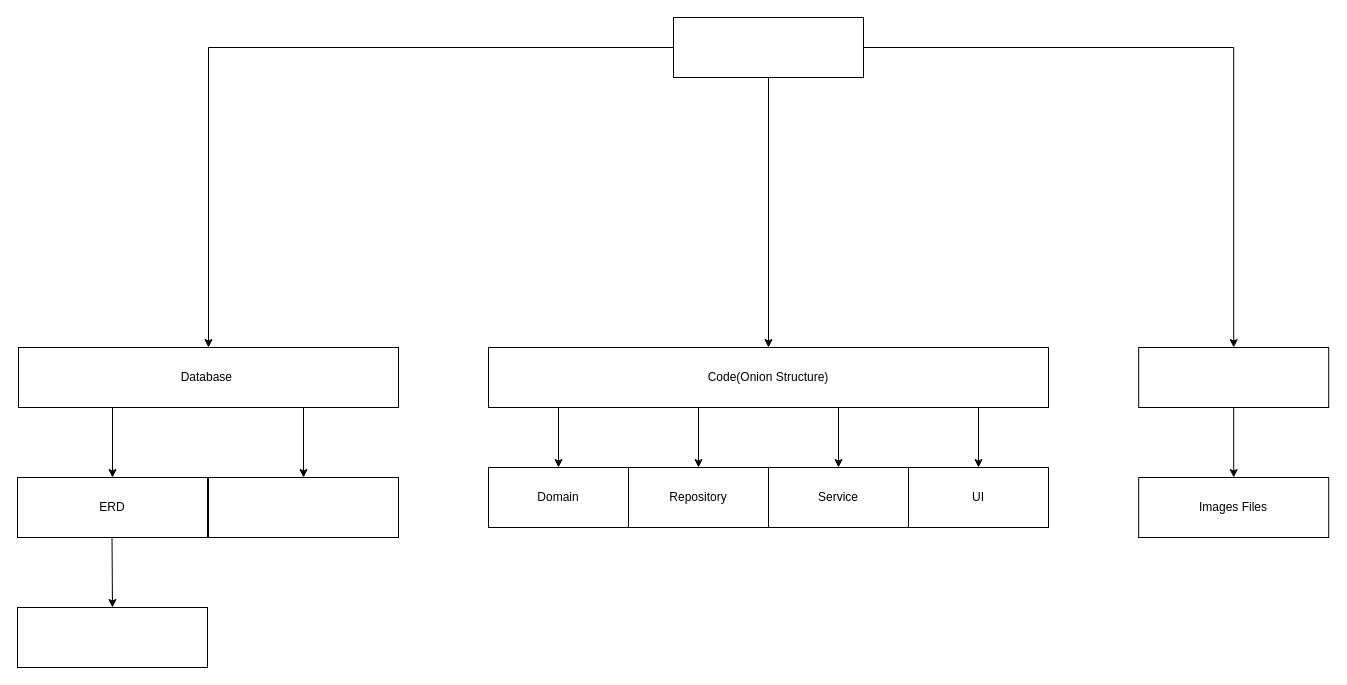
This 1347x685 diagram has some shape labels left out. Here are the shapes that lost their labels. From the top down, the box of each, then its label:
(672, 16, 864, 78): Project Structure
(1138, 346, 1329, 408): Images
(208, 476, 398, 538): Database Backup
(16, 606, 208, 668): ERD File
